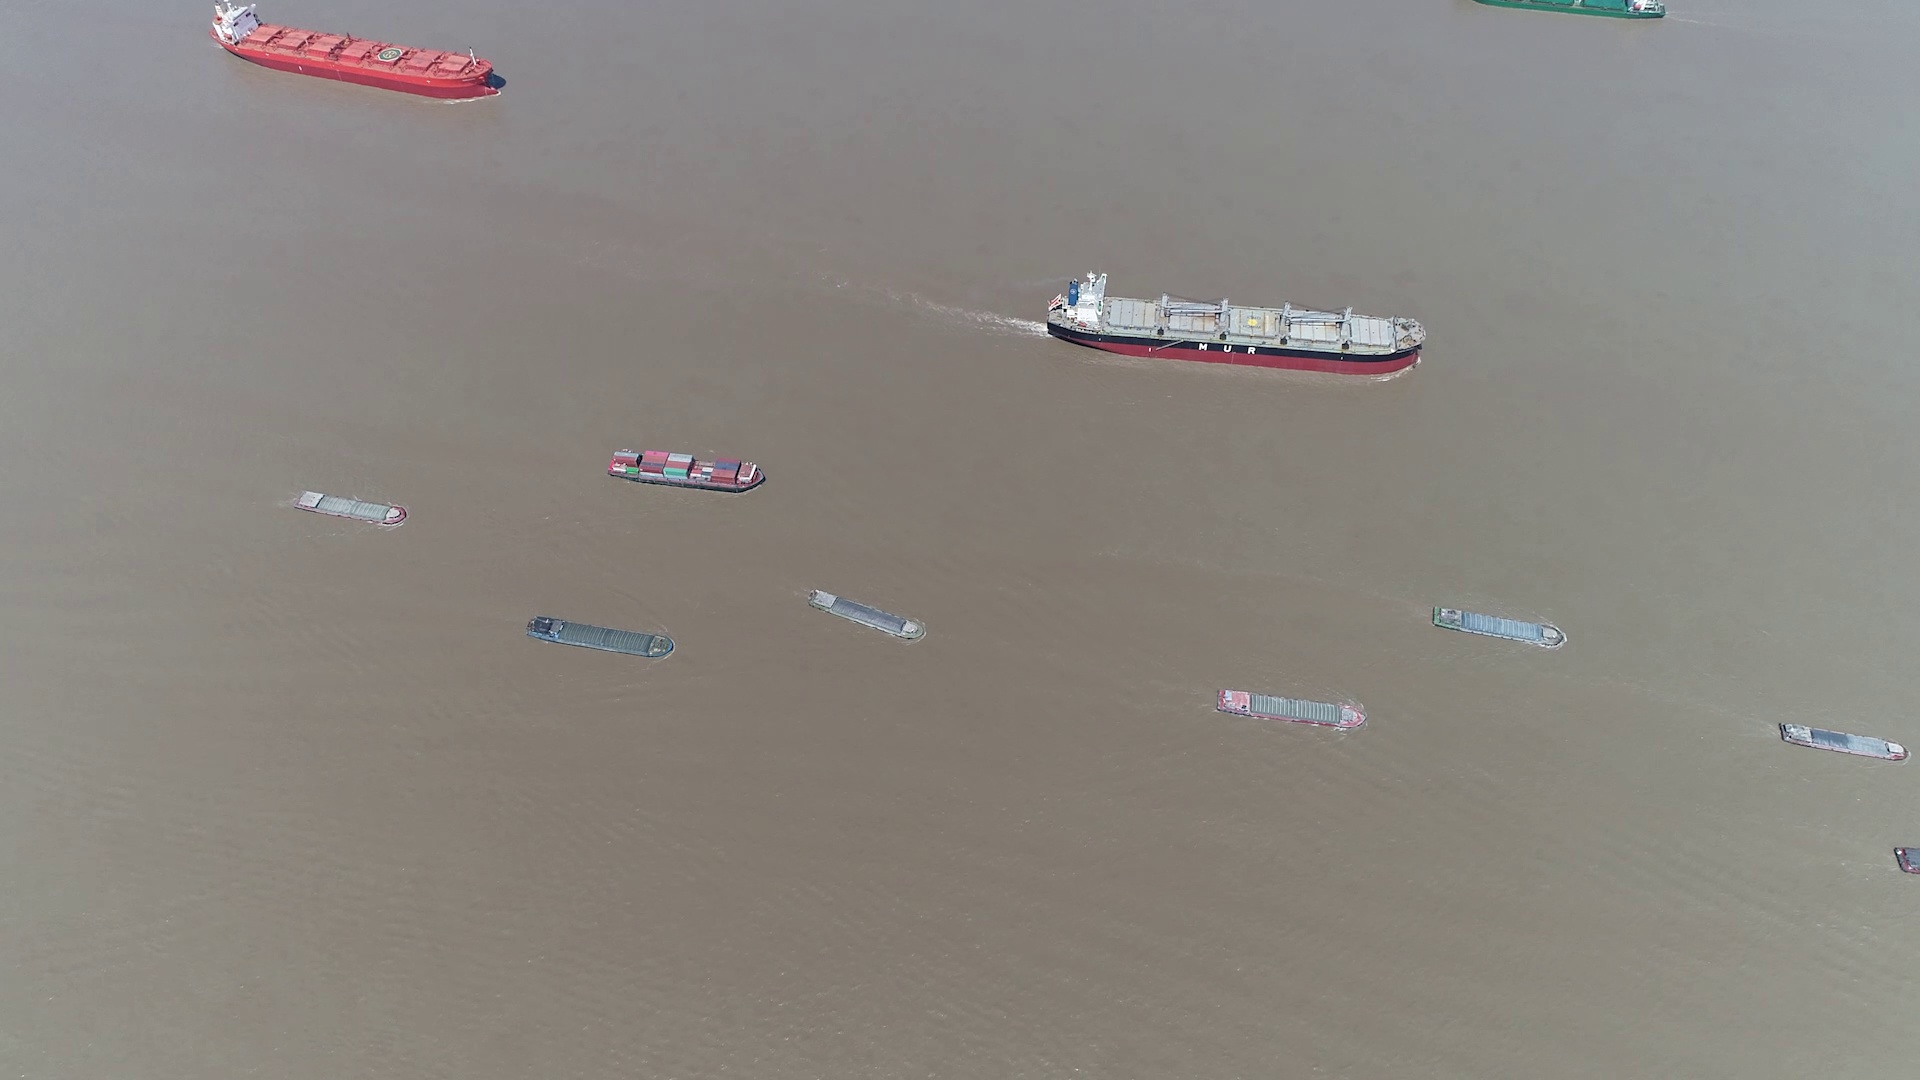ship: (1051, 274, 1425, 375), (208, 1, 504, 102), (605, 447, 767, 491), (529, 616, 675, 661), (1215, 688, 1367, 729), (808, 589, 926, 641), (1429, 607, 1569, 647), (1778, 721, 1908, 765), (293, 489, 406, 526), (1480, 0, 1665, 20), (1892, 847, 1917, 876)
